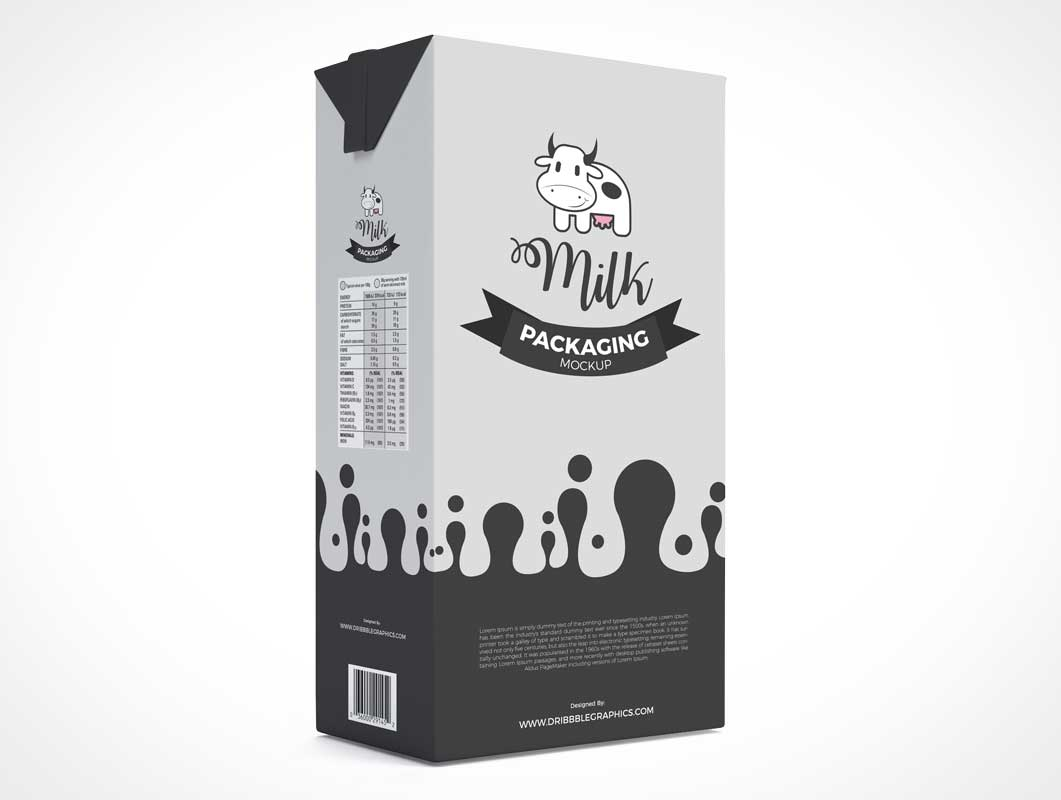carton: (281, 12, 795, 772)
